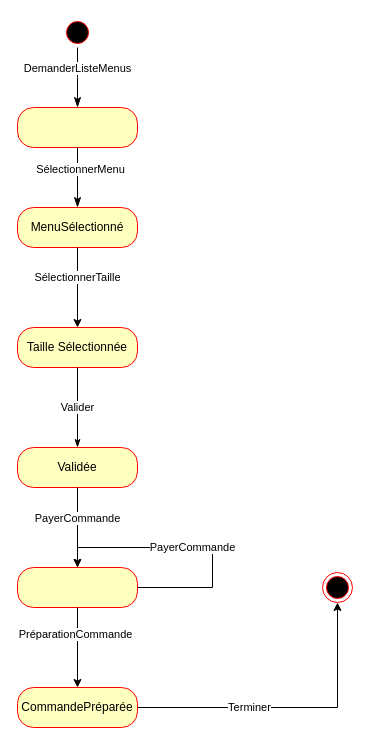
Some shapes in this 370 by 745 pixel diagram are drawn without their labels. The shapes that lost their labels are listed below. From the top down, each one's centre as x and y in pixels, then its label:
(x=77, y=127): Consulté
(x=77, y=587): Payée
